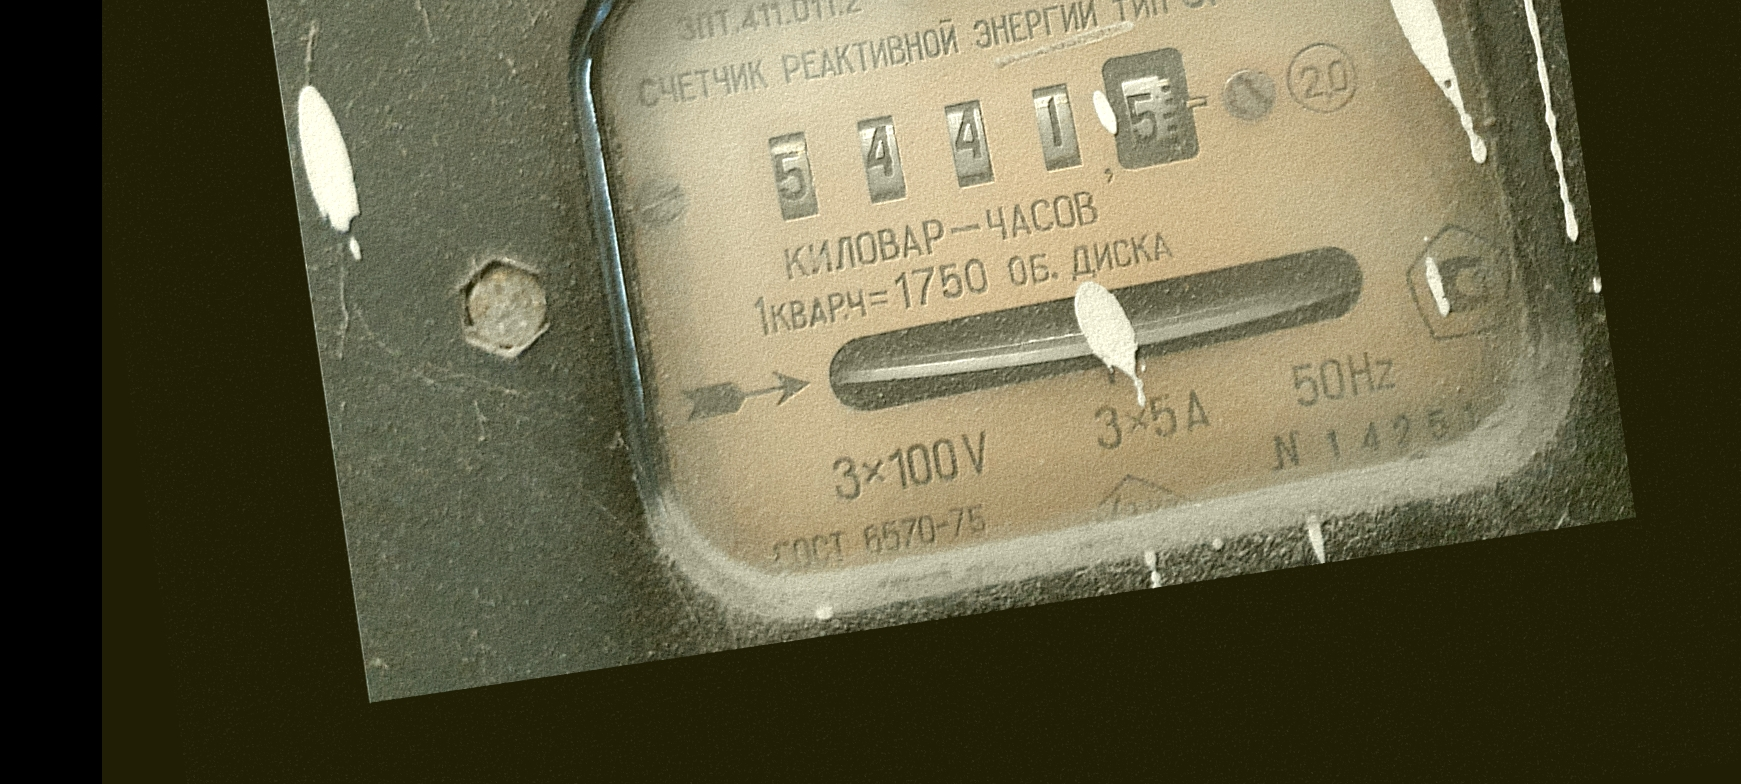1: (1039, 91, 1071, 152)
4: (945, 99, 992, 170), (858, 118, 902, 184)
5: (1123, 84, 1166, 151), (769, 145, 815, 207)
screen: (738, 20, 1230, 252)
